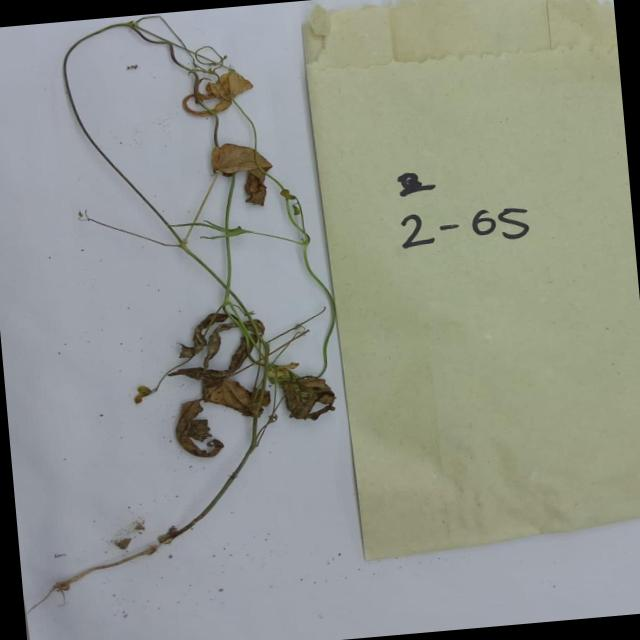Root: (24, 566, 100, 618)
Stem: (83, 9, 220, 70), (44, 28, 98, 134), (119, 173, 188, 254), (150, 479, 254, 529), (272, 173, 316, 281), (300, 265, 340, 376), (76, 122, 128, 195), (208, 210, 244, 314), (243, 303, 274, 412), (169, 236, 225, 292), (232, 407, 270, 488), (64, 205, 135, 248), (184, 172, 218, 255), (250, 231, 320, 253)
rooten_leaf: (205, 140, 274, 211), (170, 364, 254, 418), (167, 398, 228, 462), (180, 69, 253, 116), (279, 373, 336, 424), (187, 309, 240, 361), (127, 370, 159, 406)
